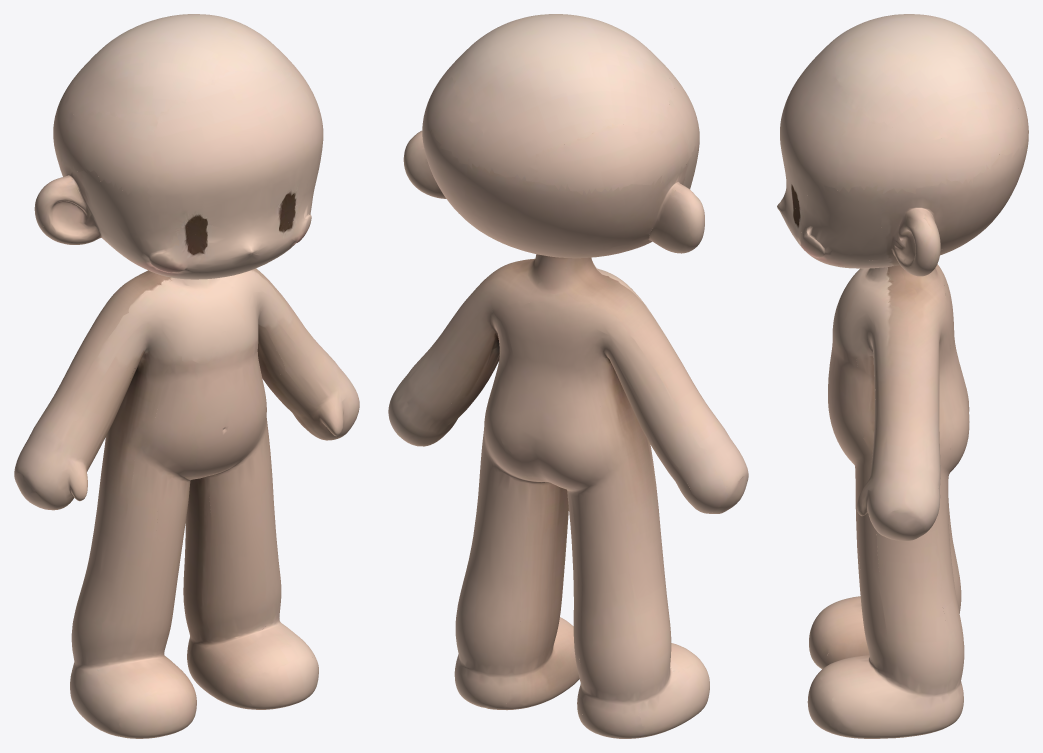
Rendered from doll-anchored.glb.
The picture shows the model from 3 angles, left to right: view 1: azimuth 30°, elevation 25°; view 2: azimuth 150°, elevation 25°; view 3: azimuth 270°, elevation 25°; orthographic projection. The views are drawn at different scales.
Visible parts, largest first — view 1: node_0; view 2: node_0; view 3: node_0.
Boxes of the visible parts, x1,y1,x2,y2 form: node_0: (14, 14, 359, 738); node_0: (388, 14, 748, 738); node_0: (777, 14, 1028, 738).
Bounding box in the file's own units: 0.5929 × 1.12 × 0.383.
1 material, 1 textured.
